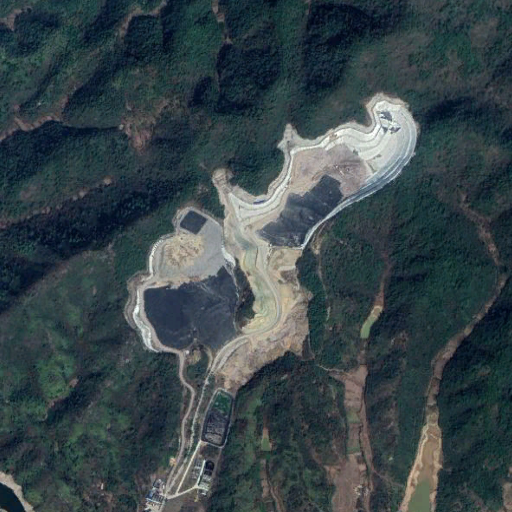lf: (118, 85, 422, 399)
